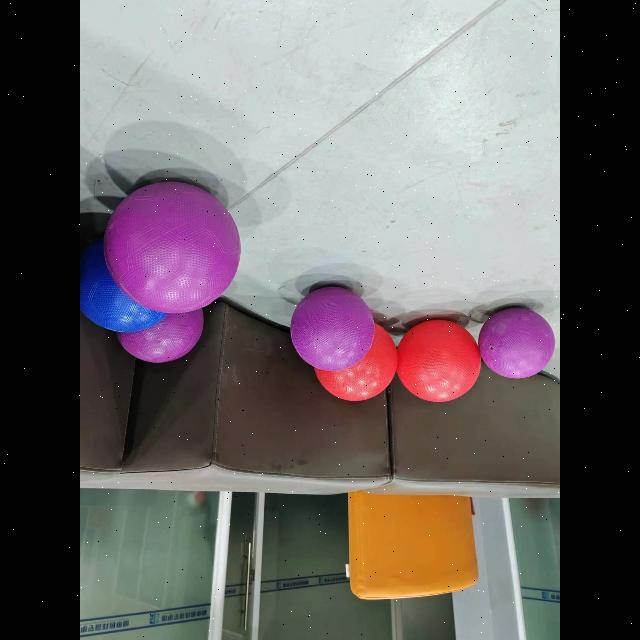B: (80, 237, 167, 332)
P: (104, 181, 241, 313), (290, 287, 374, 371), (478, 307, 554, 378), (117, 308, 204, 363)
R: (397, 320, 481, 402), (315, 324, 397, 401)
